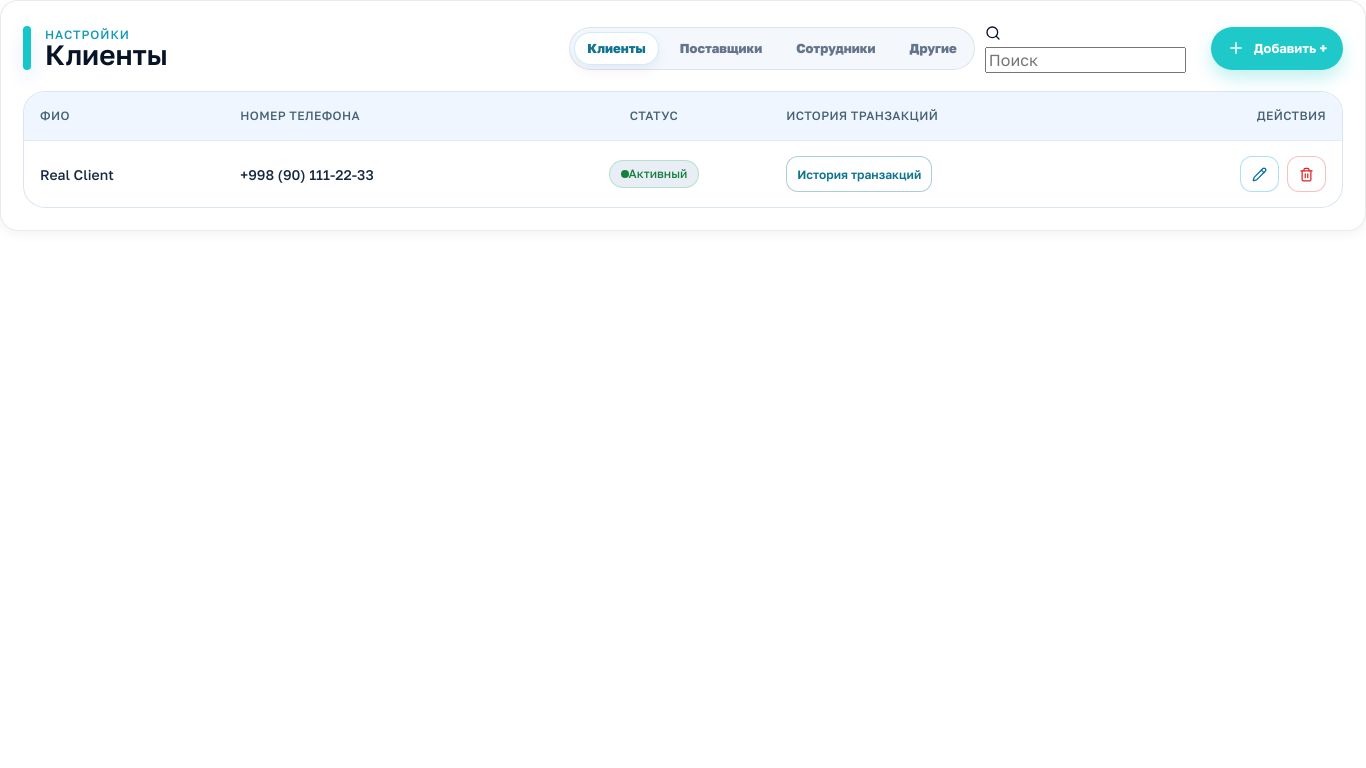
Scenario: SettingsClientsPage (counterparties V1) › titles the add modal by counterparty type
This screenshot has width=1366, height=768.
Check: the text "Real Client" is shown, box [24, 140, 224, 207]
Click the button "Добавить +" at {"x": 1277, "y": 48}, box [1211, 26, 1343, 70]
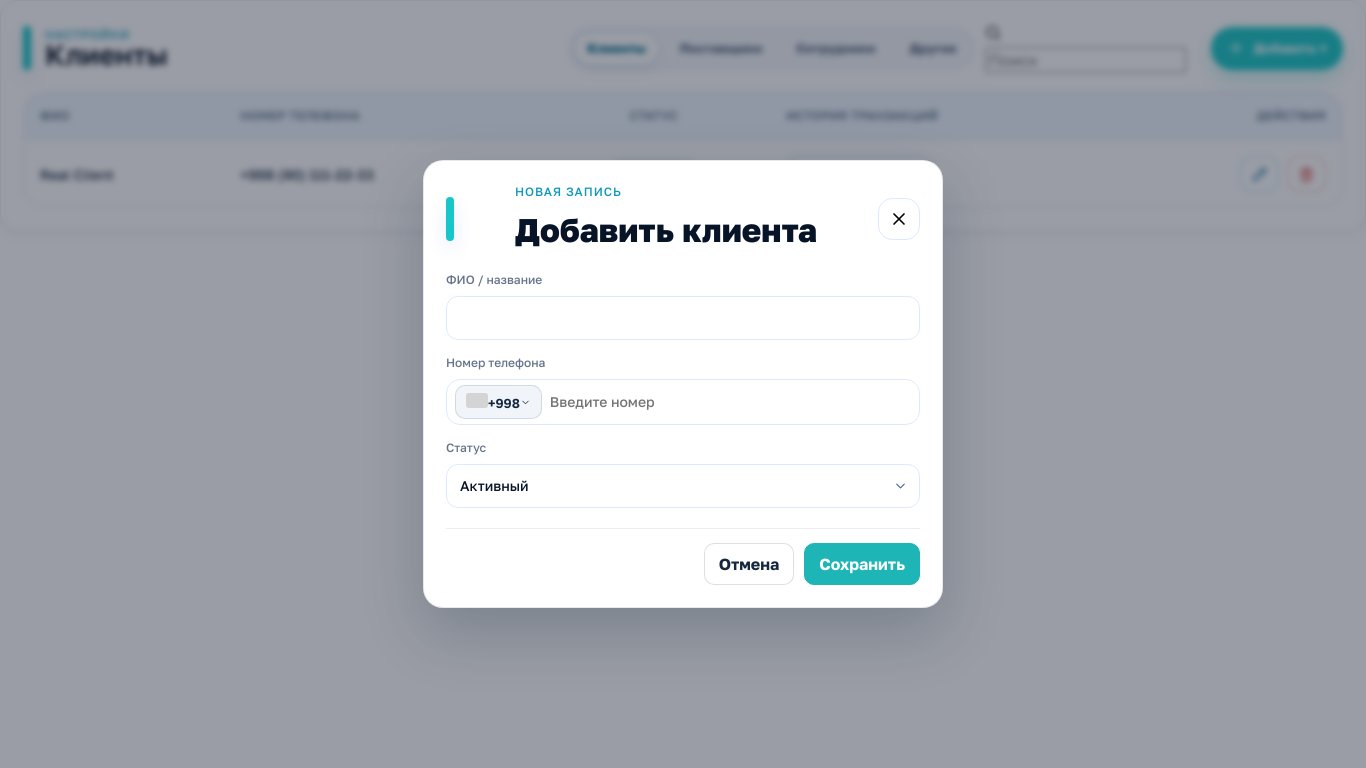
Check: the heading "Добавить клиента" is shown, box [515, 205, 817, 255]
